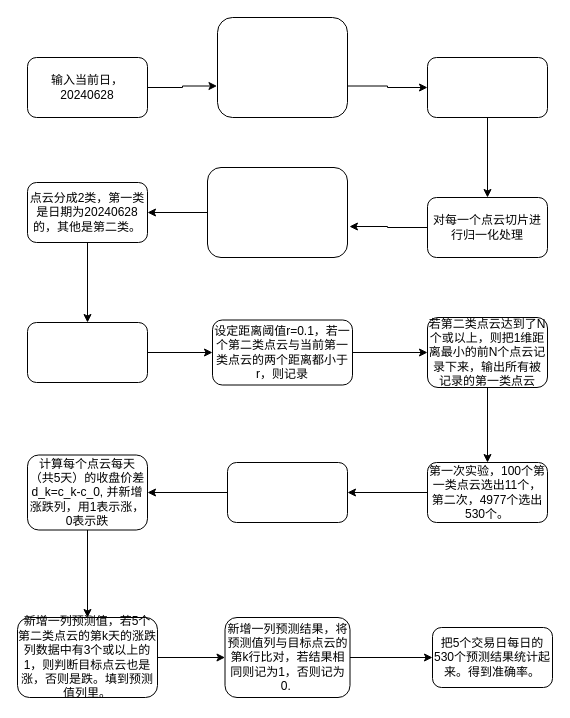
Image size: 570x718. Some labels were removed from this diagram. The centre of each missing label's shape, as x and y in pixels:
"对归一化的点云切片生成点云，挑选money, volume,high,close四列，选择VR复形，保留0,1,2维持续同调结果（不生成持续图）" belongs at pixel 277 212.
"将每一个第一类点云都与全部第二类点云都进行Bottleneck距离计算，算0维和1维的" belongs at pixel 87 352.
"把所有点云切片切割出来，共39318个点云切片" belongs at pixel 487 87.
"筛选点云切片，往前推480个交易日，一个点云切片有60行数据，有5027支股票至少有4个点云切片" belongs at pixel 282 67.
"选择N=5，把530个点云切片及其top5相似点云切片的后5天交易数据调取出来生成csv" belongs at pixel 287 492.
